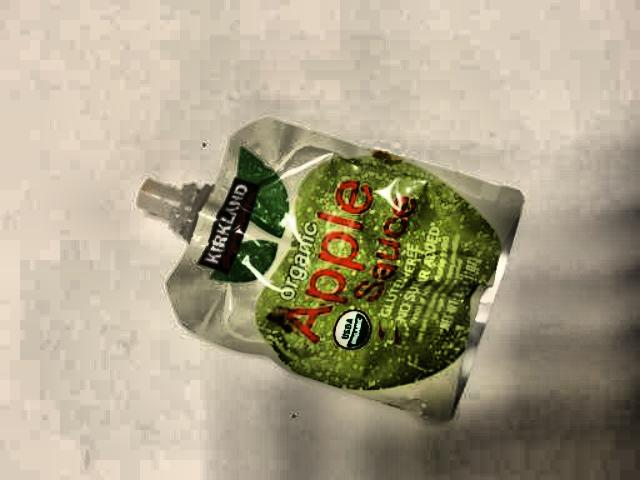Plastic: (122, 103, 528, 433)
